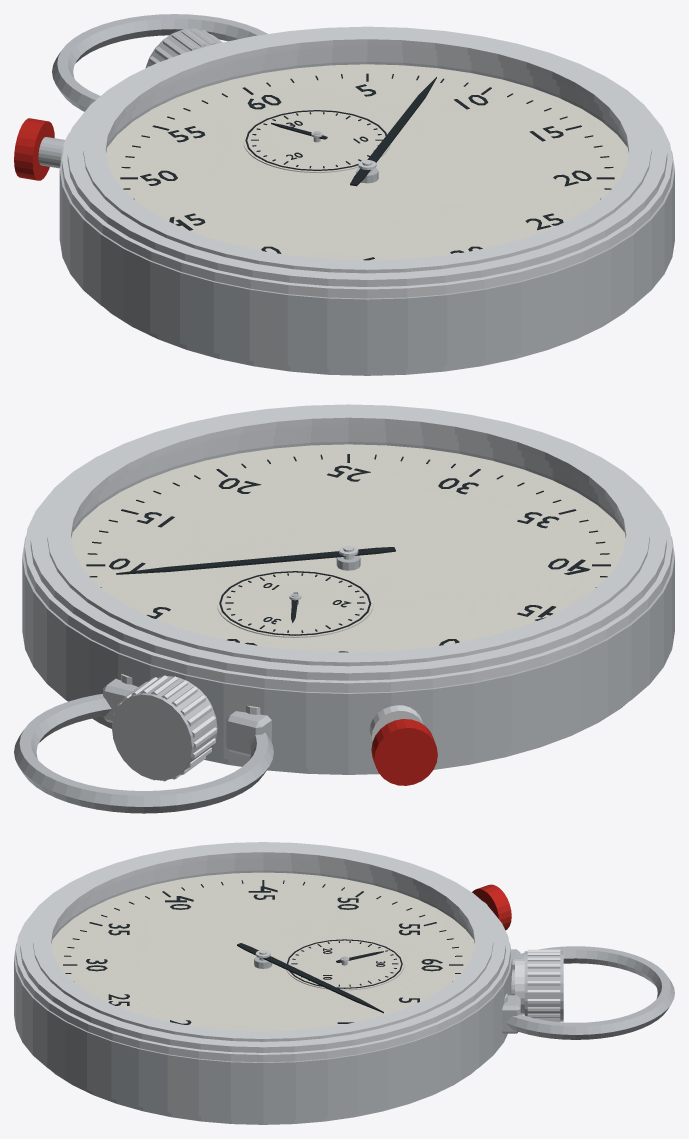
Rendered from A-NEW-20261026-STOPWATCH-001_LOD2_R3.glb.
3 renders of one model, top to bottom at view 1: azimuth 30°, elevation 25°; view 2: azimuth 150°, elevation 25°; view 3: azimuth 270°, elevation 25°, orthographic. The views are drawn at different scales.
Parts seen in each view (by area): view 1: pale main dial, case perimeter wall, crystal retaining lip, bezel upper rim, bezel lower step, subdial backing, closed suspension loop, closed rear shell, red mushroom reset button, long seconds hand, reset metal neck, winding crown (+1 smaller); view 2: pale main dial, case perimeter wall, crystal retaining lip, bezel upper rim, bezel lower step, closed suspension loop, subdial backing, winding crown, red mushroom reset button, closed rear shell, long seconds hand, loop anchor lug (+3 smaller); view 3: pale main dial, case perimeter wall, crystal retaining lip, bezel upper rim, bezel lower step, closed suspension loop, subdial backing, closed rear shell, winding crown, red mushroom reset button, long seconds hand, loop anchor lug.001 (+2 smaller).
Part boxes in pixels (left/top/right/bottom): pale main dial: left=106, top=64, right=628, bottom=260; case perimeter wall: left=59, top=61, right=674, bottom=370; crystal retaining lip: left=83, top=29, right=651, bottom=273; bezel upper rim: left=67, top=26, right=667, bottom=286; bezel lower step: left=62, top=52, right=672, bottom=298; subdial backing: left=243, top=109, right=390, bottom=172; closed suspension loop: left=52, top=14, right=267, bottom=111; closed rear shell: left=105, top=307, right=630, bottom=375; red mushroom reset button: left=14, top=118, right=54, bottom=180; long seconds hand: left=350, top=77, right=436, bottom=186; reset metal neck: left=38, top=137, right=64, bottom=168; winding crown: left=145, top=28, right=216, bottom=68; pale main dial: left=71, top=444, right=625, bottom=652; case perimeter wall: left=22, top=441, right=674, bottom=769; crystal retaining lip: left=47, top=407, right=649, bottom=666; bezel upper rim: left=30, top=404, right=666, bottom=680; bezel lower step: left=24, top=432, right=672, bottom=692; closed suspension loop: left=14, top=694, right=273, bottom=813; subdial backing: left=217, top=570, right=373, bottom=637; winding crown: left=112, top=676, right=217, bottom=780; red mushroom reset button: left=371, top=719, right=437, bottom=785; closed rear shell: left=93, top=702, right=627, bottom=774; long seconds hand: left=116, top=547, right=395, bottom=574; loop anchor lug: left=226, top=711, right=271, bottom=756; pale main dial: left=51, top=872, right=474, bottom=1031; case perimeter wall: left=14, top=870, right=512, bottom=1120; crystal retaining lip: left=33, top=844, right=493, bottom=1041; bezel upper rim: left=20, top=842, right=505, bottom=1052; bezel lower step: left=15, top=863, right=510, bottom=1062; closed suspension loop: left=506, top=946, right=674, bottom=1039; subdial backing: left=285, top=939, right=404, bottom=990; closed rear shell: left=50, top=1069, right=476, bottom=1124; winding crown: left=524, top=951, right=563, bottom=1021; red mushroom reset button: left=472, top=884, right=511, bottom=930; long seconds hand: left=237, top=943, right=383, bottom=1013; loop anchor lug.001: left=502, top=995, right=520, bottom=1033.
Size of the model in its own units: 0.055 by 0.01 by 0.0729.
